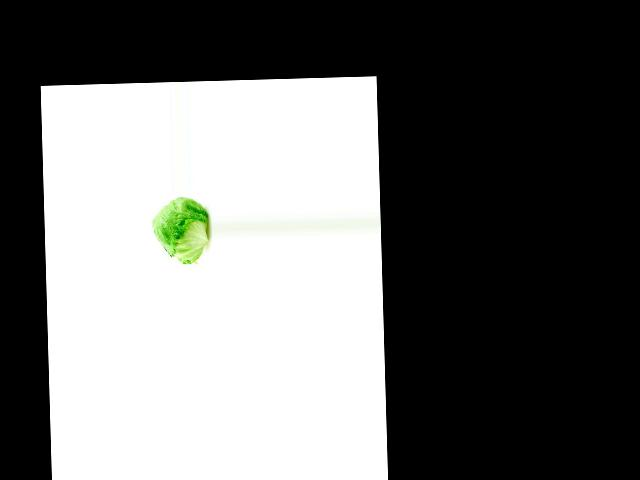lettuce: (149, 194, 209, 265)
